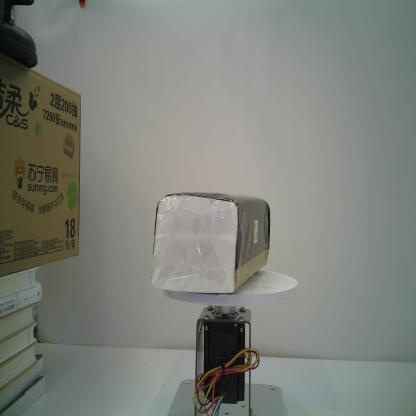Tissue: (150, 189, 272, 296)
